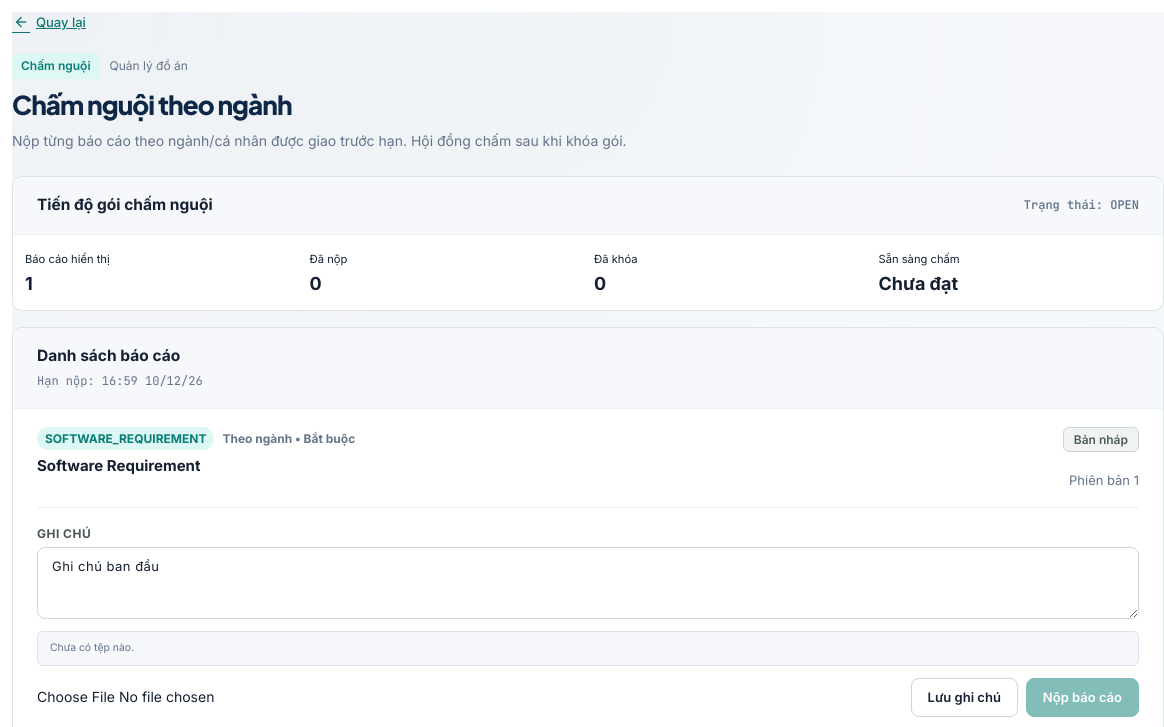
Test: COLD checklist page › reloads the checklist instead of replaying the mutation on a 409 conflict
Expected: the text box labelled "Ghi chú" is shown, [37,547,1139,619]
Click the button "Lưu ghi chú": point(964, 697) [911,678,1018,717]
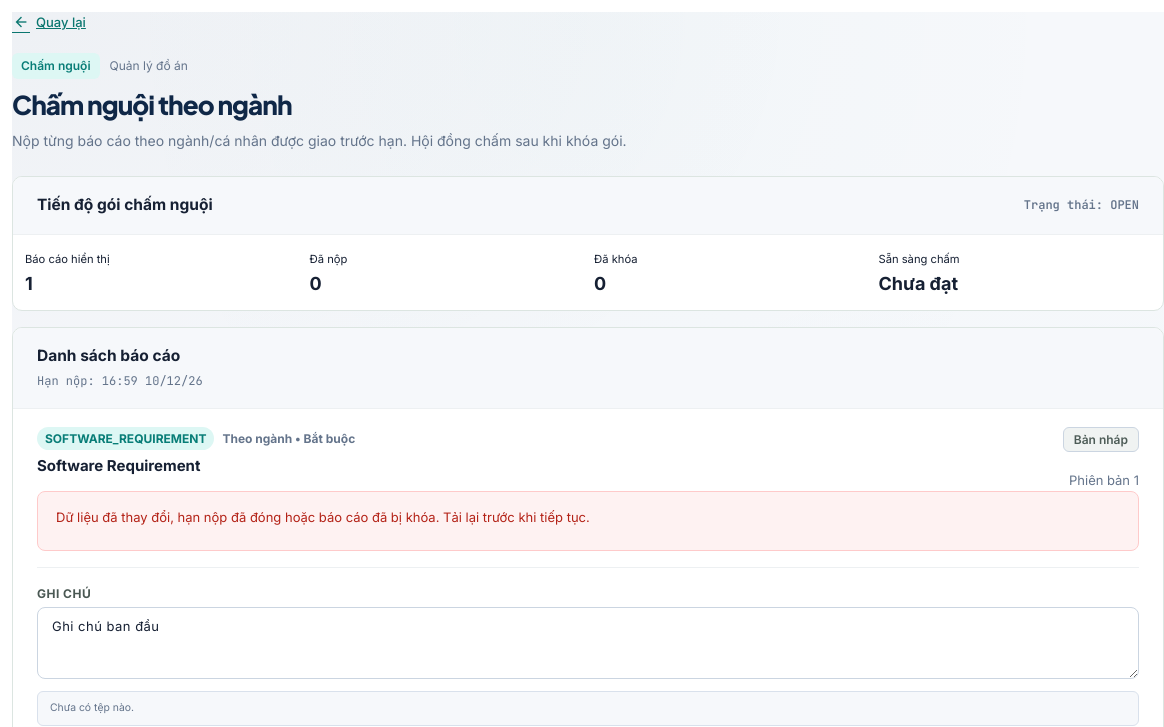
Expected: the message is shown, [37,491,1139,551]
